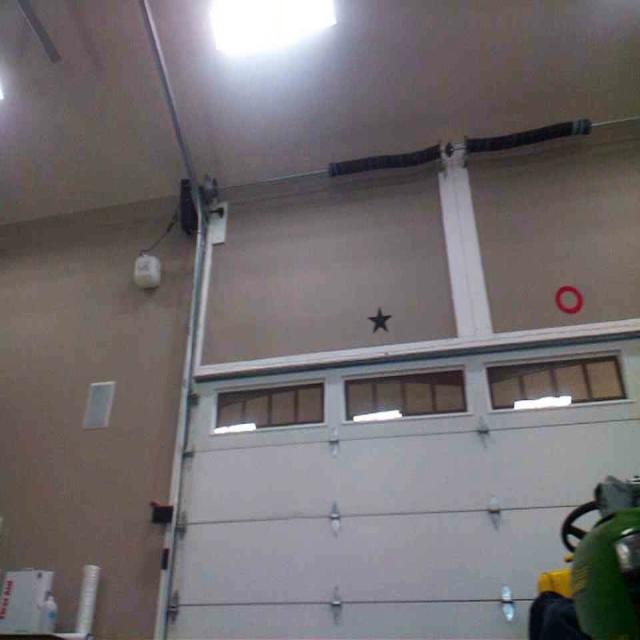ring_red: (554, 284, 584, 314)
star_black: (366, 306, 392, 332)
